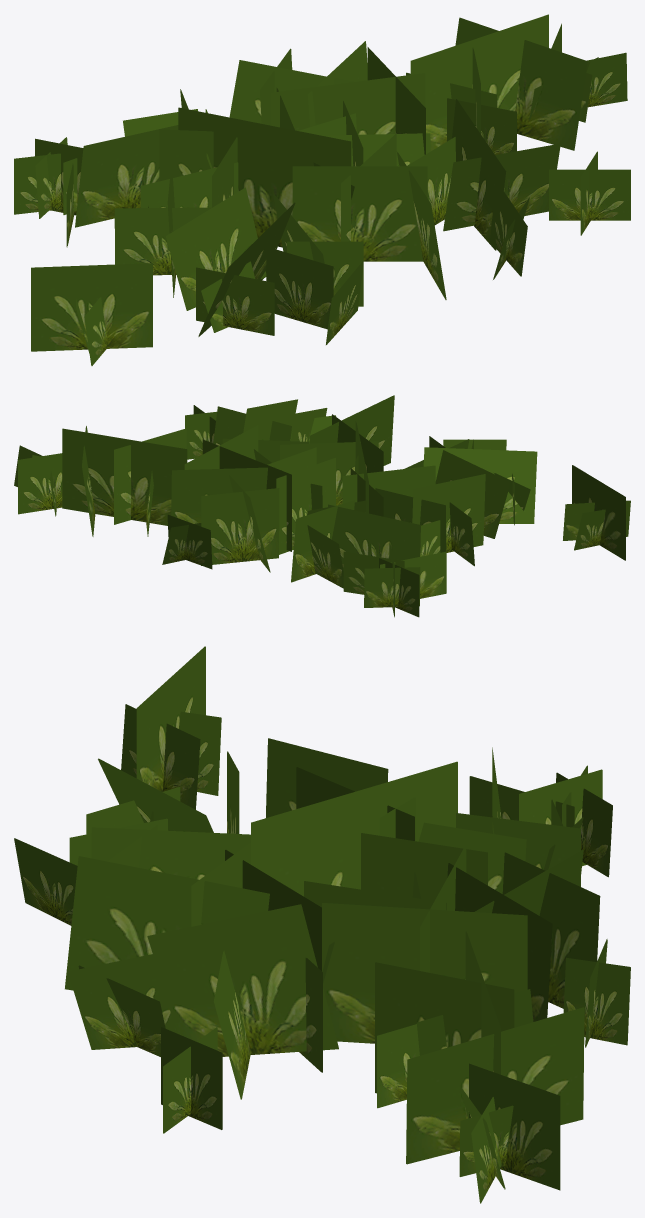
Rendered from DN_grass15a.FBX.
The picture shows the model from 3 angles, top to bottom: view 1: azimuth 30°, elevation 25°; view 2: azimuth 150°, elevation 25°; view 3: azimuth 270°, elevation 25°; orthographic projection. The views are drawn at different scales.
Visible parts, largest first — view 1: DN_grass15a; view 2: DN_grass15a; view 3: DN_grass15a.
Part boxes in pixels (left/top/right/bottom): DN_grass15a: left=14, top=14, right=630, bottom=365; DN_grass15a: left=14, top=395, right=630, bottom=617; DN_grass15a: left=14, top=646, right=630, bottom=1203.
Bounding box in the file's own units: 339 × 55.81 × 195.
